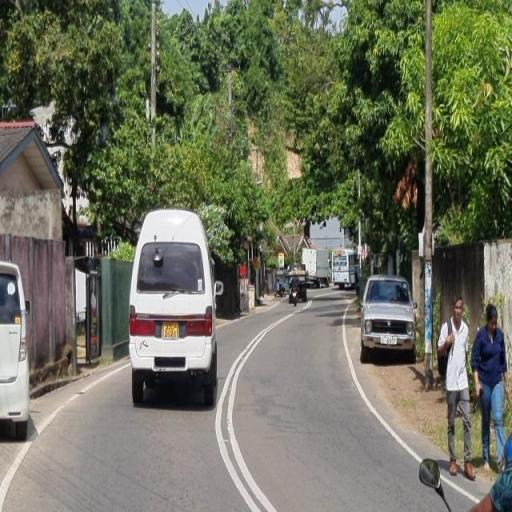double_white_line: (214, 310, 276, 511)
